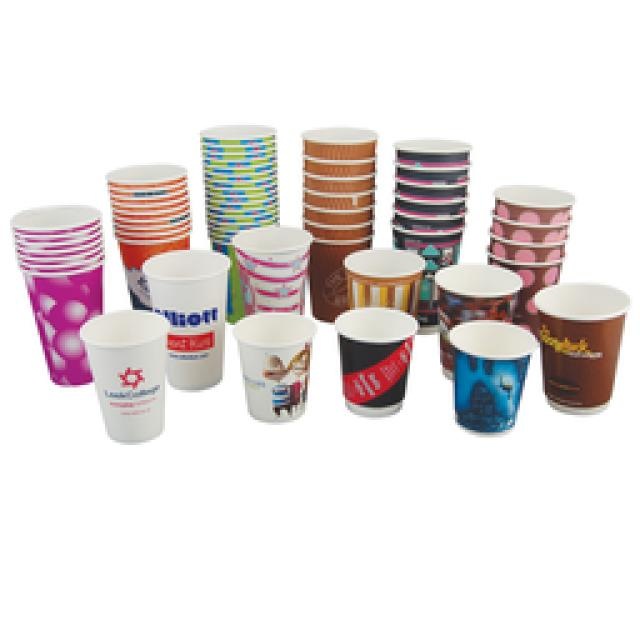paper_cups: (10, 206, 108, 387), (303, 128, 379, 322), (536, 281, 632, 414), (82, 311, 171, 445), (148, 251, 229, 392), (450, 320, 536, 435), (337, 310, 417, 418), (237, 318, 313, 424), (235, 230, 311, 318)
